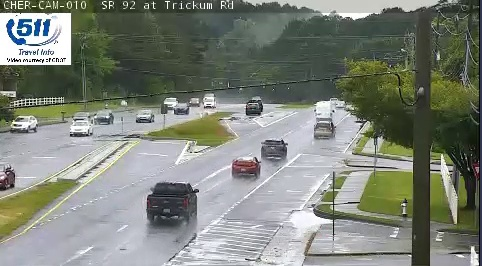car: (146, 182, 197, 217), (232, 157, 260, 175), (261, 139, 286, 157), (314, 121, 334, 138)
van: (316, 101, 333, 122)
